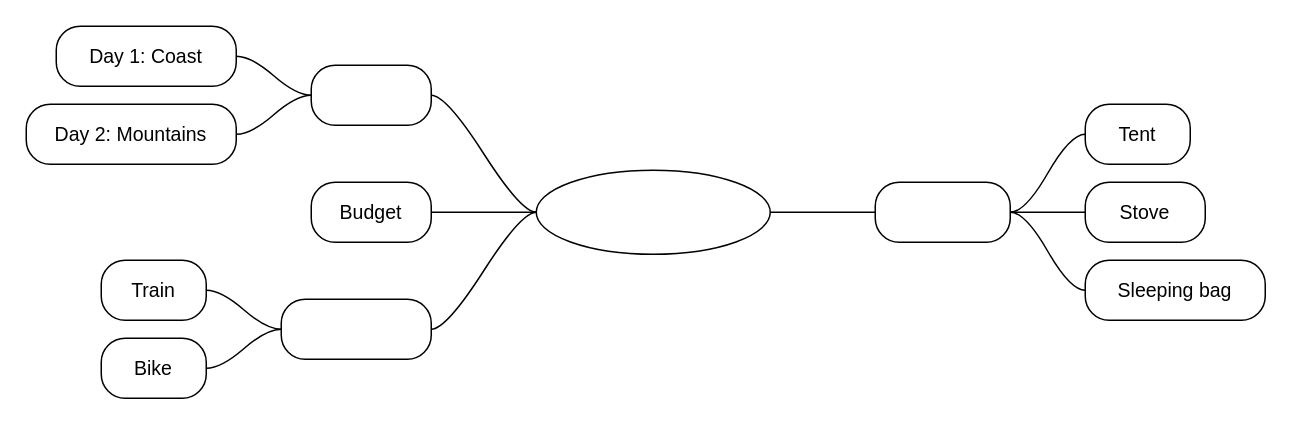
The diagram is 1292 pixels wide and 425 high, and some of its shapes have lost their labels. Each missing label, with the centre of its shape:
"Packing" belongs at [942,211].
"Route" belongs at [370,94].
"Transport" belongs at [355,328].
"Trip planning" belongs at [652,211].
